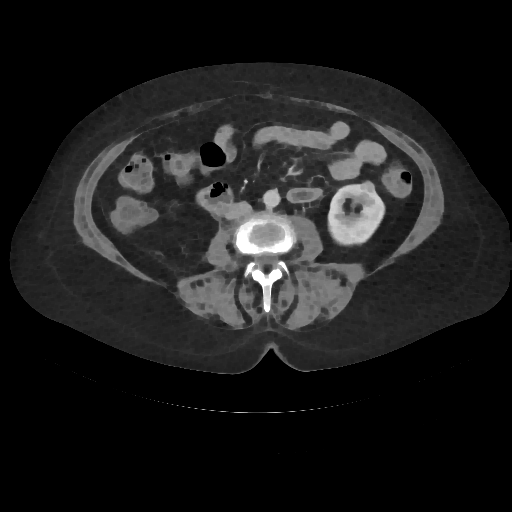Lesion: (358, 177, 377, 195)
